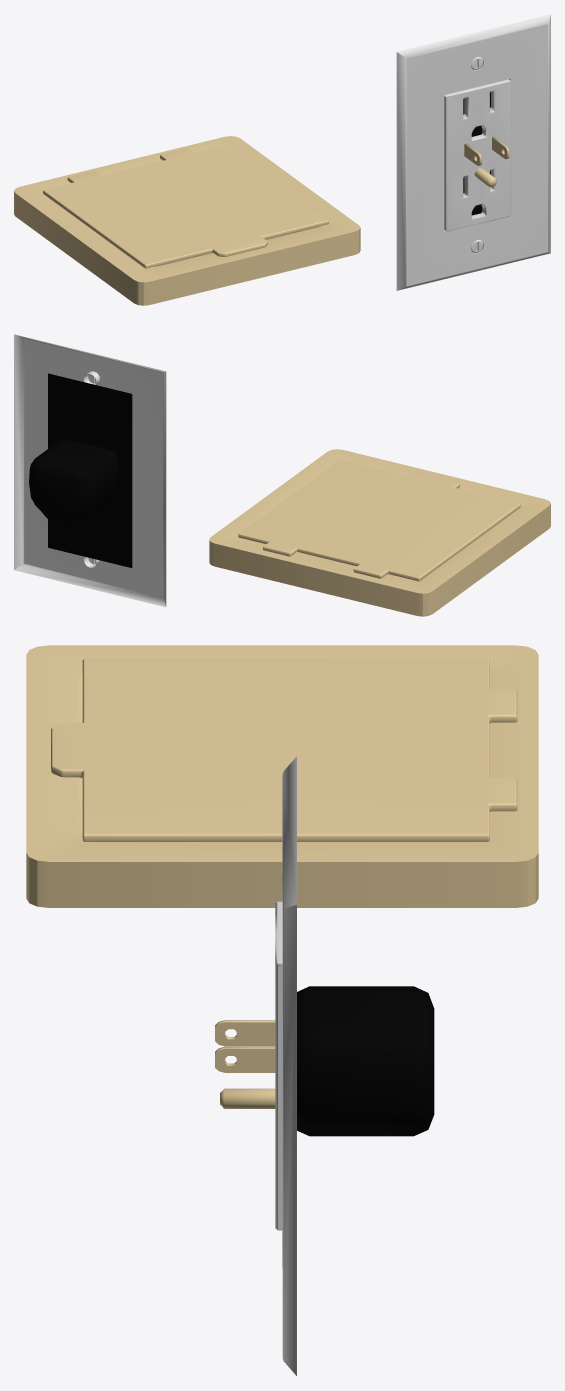
Rendered from plug.fbx.
The picture shows the model from 3 angles, top to bottom: view 1: azimuth 30°, elevation 25°; view 2: azimuth 150°, elevation 25°; view 3: azimuth 270°, elevation 25°; orthographic projection. The views are drawn at different scales.
Visible parts, largest first — view 1: duplex outlet, floor box lid, floor box outlet, plug; view 2: duplex outlet, floor box lid, floor box outlet, plug; view 3: floor box lid, floor box outlet, plug, duplex outlet.
Part boxes in pixels (bbox=[...]): duplex outlet: bbox=[396, 14, 550, 290]; floor box lid: bbox=[43, 145, 328, 268]; floor box outlet: bbox=[14, 136, 360, 305]; plug: bbox=[463, 126, 509, 187]; duplex outlet: bbox=[14, 334, 166, 607]; floor box lid: bbox=[238, 460, 520, 581]; floor box outlet: bbox=[209, 449, 550, 616]; plug: bbox=[29, 439, 118, 525]; floor box lid: bbox=[51, 658, 517, 841]; floor box outlet: bbox=[26, 645, 538, 907]; plug: bbox=[215, 986, 434, 1136]; duplex outlet: bbox=[275, 756, 296, 1375].
Size of the model in its own units: 75.27 by 35.85 by 35.27.
